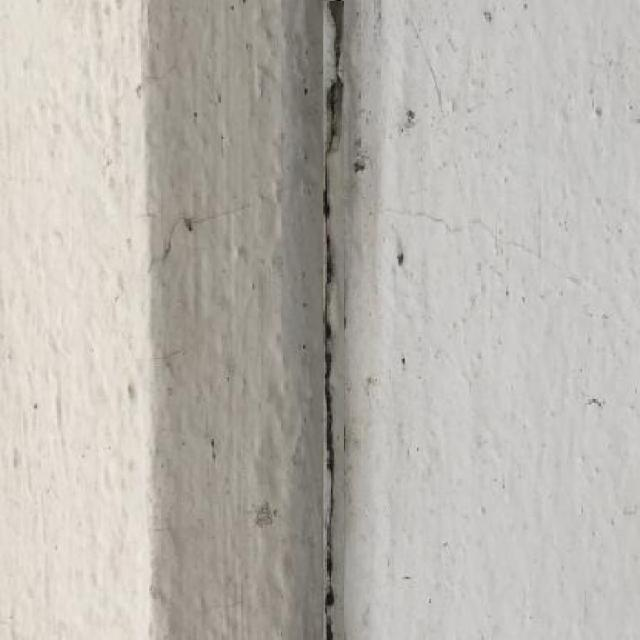vertical crack: (324, 1, 344, 640)
